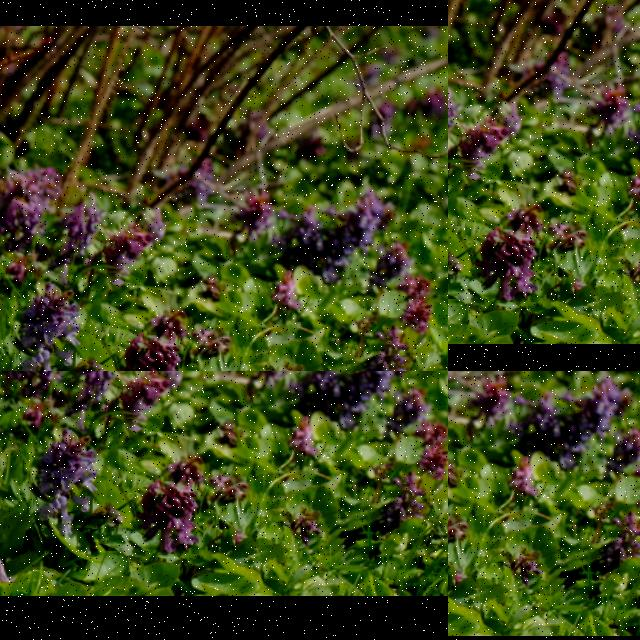flower: (208, 102, 360, 218), (290, 261, 395, 371), (356, 335, 448, 371)
